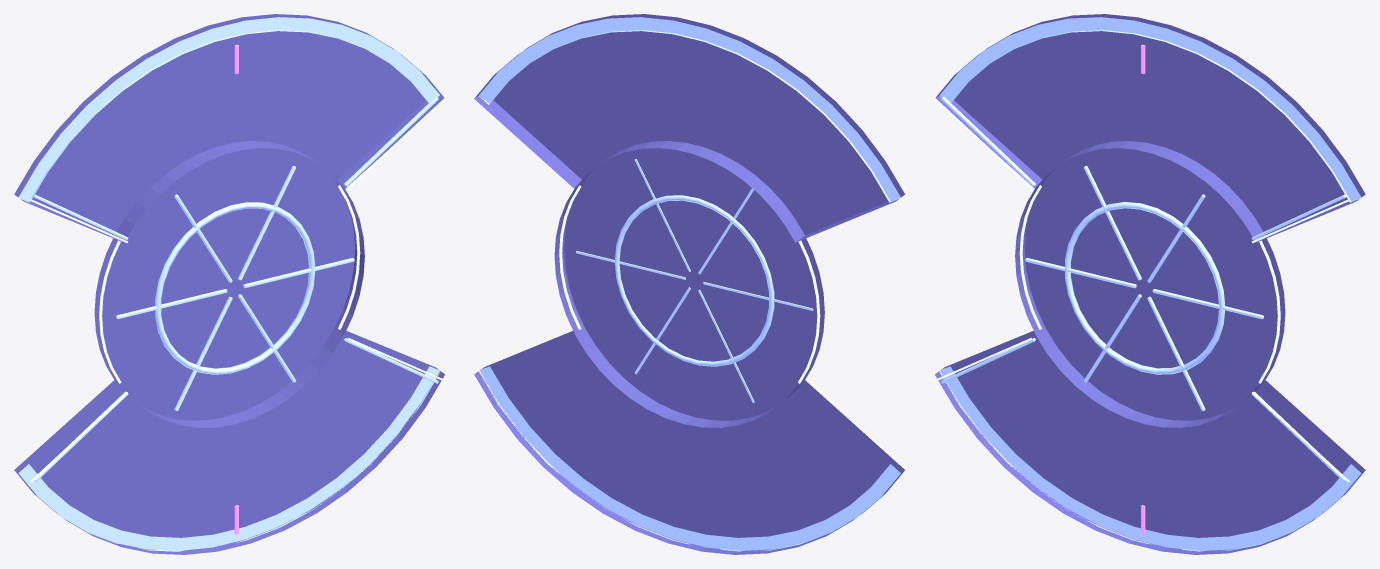
The model's file is prism-panel-fun1-medium.glb.
3 views of the same model, side by side, from view 1: azimuth 30°, elevation 25°; view 2: azimuth 150°, elevation 25°; view 3: azimuth 330°, elevation 25° (orthographic).
Visible parts, largest first — view 1: RENDER_PANEL_SHELL, RENDER_PANEL_FRAME, RENDER_PANEL_SIGNAL; view 2: RENDER_PANEL_SHELL, RENDER_PANEL_FRAME, RENDER_PANEL_SIGNAL; view 3: RENDER_PANEL_SHELL, RENDER_PANEL_FRAME, RENDER_PANEL_SIGNAL.
Boxes of the visible parts, x1,y1,x2,y2 form: RENDER_PANEL_SHELL: (14, 14, 444, 554); RENDER_PANEL_FRAME: (18, 17, 440, 551); RENDER_PANEL_SIGNAL: (30, 98, 445, 482); RENDER_PANEL_SHELL: (474, 14, 904, 554); RENDER_PANEL_FRAME: (478, 17, 900, 551); RENDER_PANEL_SIGNAL: (559, 185, 905, 469); RENDER_PANEL_SHELL: (935, 14, 1365, 554); RENDER_PANEL_FRAME: (939, 17, 1361, 551); RENDER_PANEL_SIGNAL: (934, 98, 1349, 482).
Size of what is drawn, in the model's own units: 34.77 by 40.91 by 1.95.
